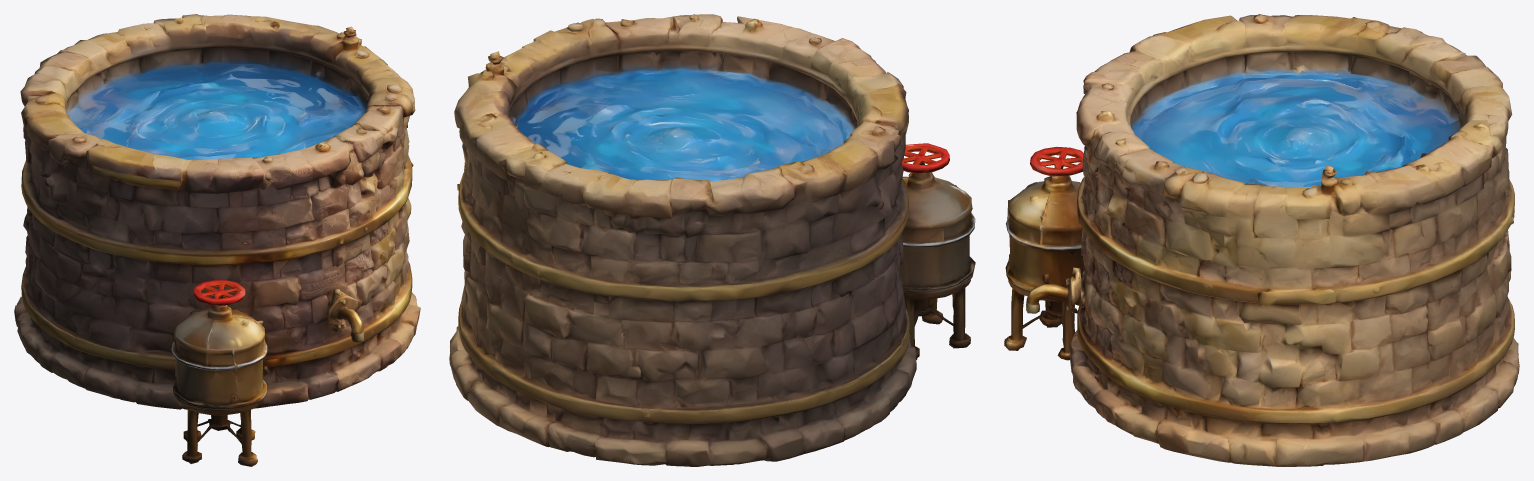
The model's file is reservoir.glb.
The picture shows the model from 3 angles, left to right: view 1: azimuth 30°, elevation 25°; view 2: azimuth 150°, elevation 25°; view 3: azimuth 270°, elevation 25°; orthographic projection. The views are drawn at different scales.
Visible parts, largest first — view 1: tripo_node_4041a4af-42d4-4819-a883-21e493095668; view 2: tripo_node_4041a4af-42d4-4819-a883-21e493095668; view 3: tripo_node_4041a4af-42d4-4819-a883-21e493095668.
Boxes of the visible parts, x1,y1,x2,y2 form: tripo_node_4041a4af-42d4-4819-a883-21e493095668: [14, 14, 420, 466]; tripo_node_4041a4af-42d4-4819-a883-21e493095668: [449, 14, 975, 466]; tripo_node_4041a4af-42d4-4819-a883-21e493095668: [1004, 14, 1519, 466].
Bounding box in the file's own units: 0.8947 × 0.6749 × 1.
Materials: 1 (1 with a texture image).
